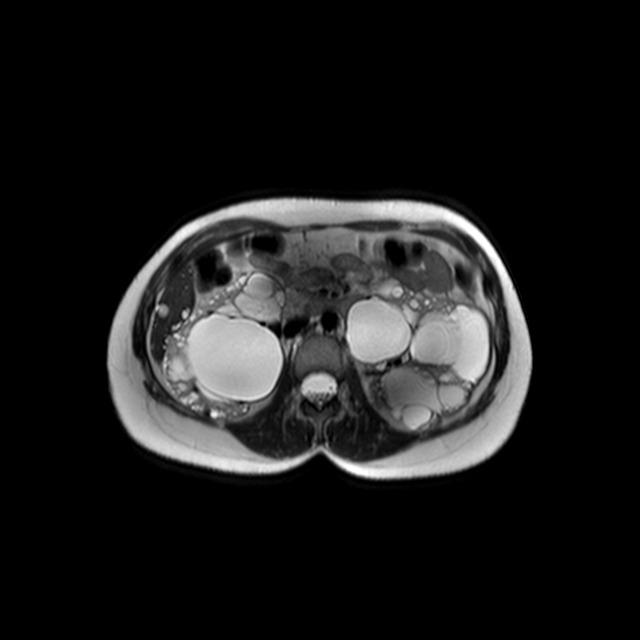sag: (162, 269, 287, 427)
sol: (345, 278, 494, 435)
